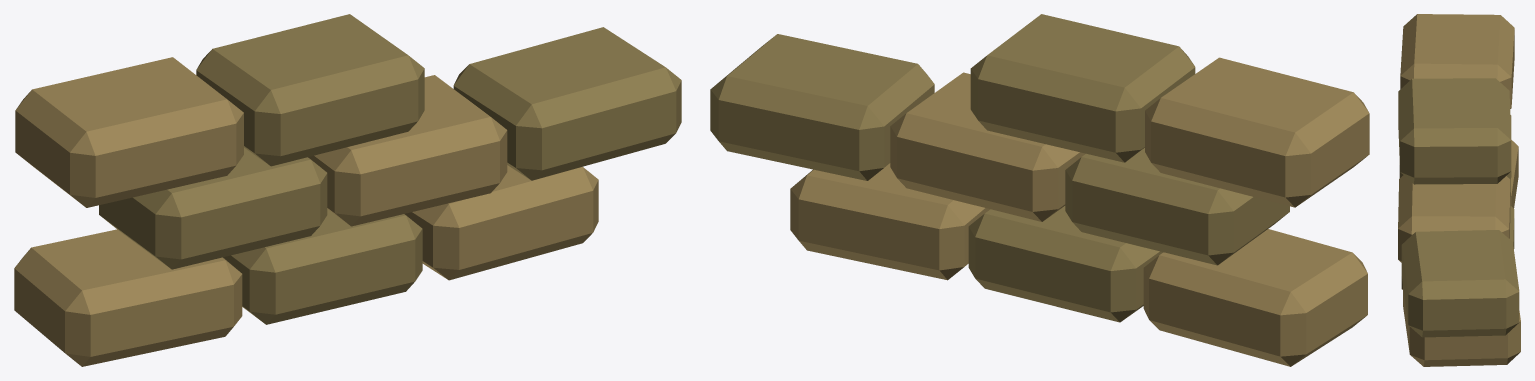
The model's file is env_sandbag.glb.
3 renders of one model, left to right at view 1: azimuth 30°, elevation 25°; view 2: azimuth 150°, elevation 25°; view 3: azimuth 270°, elevation 25°, orthographic. The views are drawn at different scales.
Visible parts, largest first — view 1: bags; view 2: bags; view 3: bags.
Boxes of the visible parts, x1=… form: bags: x1=14, y1=14, x2=681, y2=366; bags: x1=710, y1=14, x2=1369, y2=366; bags: x1=1398, y1=14, x2=1520, y2=366.
Bounding box in the file's own units: 3.38 × 1.24 × 0.7951.
1 material, 1 textured.
